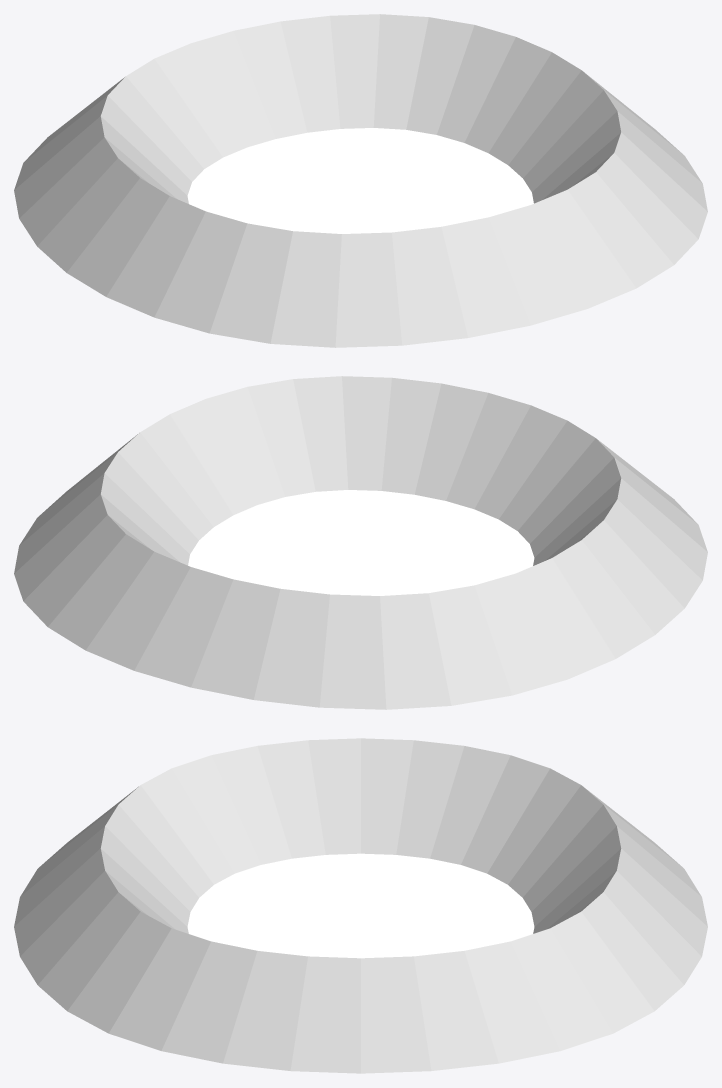
3 views of the same model, one above another, from view 1: azimuth 30°, elevation 25°; view 2: azimuth 150°, elevation 25°; view 3: azimuth 270°, elevation 25° (orthographic). The views are drawn at different scales.
Parts seen in each view (by area): view 1: Plane.002, Plane.003; view 2: Plane.002, Plane.003; view 3: Plane.002, Plane.003.
Boxes of the visible parts, left/top/right/bottom form: Plane.002: left=14, top=14, right=707, bottom=347; Plane.003: left=187, top=128, right=533, bottom=233; Plane.002: left=14, top=376, right=707, bottom=709; Plane.003: left=188, top=490, right=534, bottom=595; Plane.002: left=14, top=738, right=707, bottom=1073; Plane.003: left=187, top=853, right=534, bottom=958.
Bounding box in the file's own units: 0.9992 × 0.13 × 0.9992.
